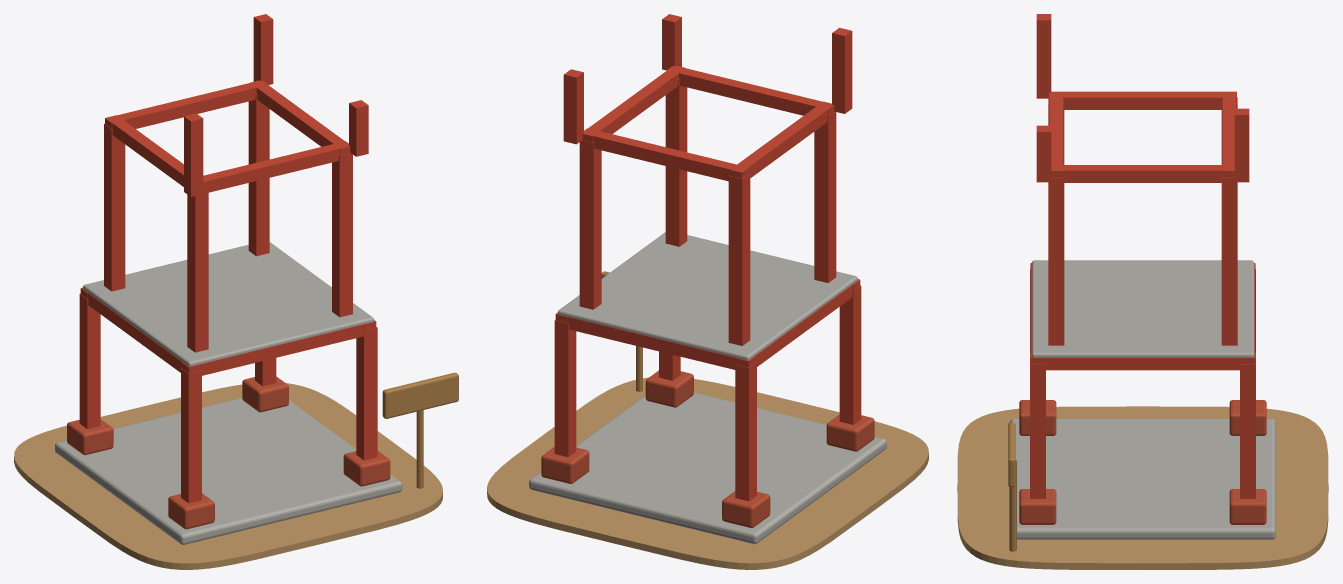
File: clock-tower-stage-1-merged.395e740b.glb
The picture shows the model from 3 angles, left to right: view 1: azimuth 30°, elevation 25°; view 2: azimuth 150°, elevation 25°; view 3: azimuth 270°, elevation 25°; orthographic projection. The views are drawn at different scales.
Parts seen in each view (by area): view 1: ClockTower_Stage1__T_vcol; view 2: ClockTower_Stage1__T_vcol; view 3: ClockTower_Stage1__T_vcol.
Boxes of the visible parts, box(x1,y1,x2,y2) form: ClockTower_Stage1__T_vcol: box(14, 14, 458, 569); ClockTower_Stage1__T_vcol: box(487, 14, 928, 569); ClockTower_Stage1__T_vcol: box(957, 14, 1328, 569).
Size of the model in its own units: 4.98 by 6.18 by 4.8.
